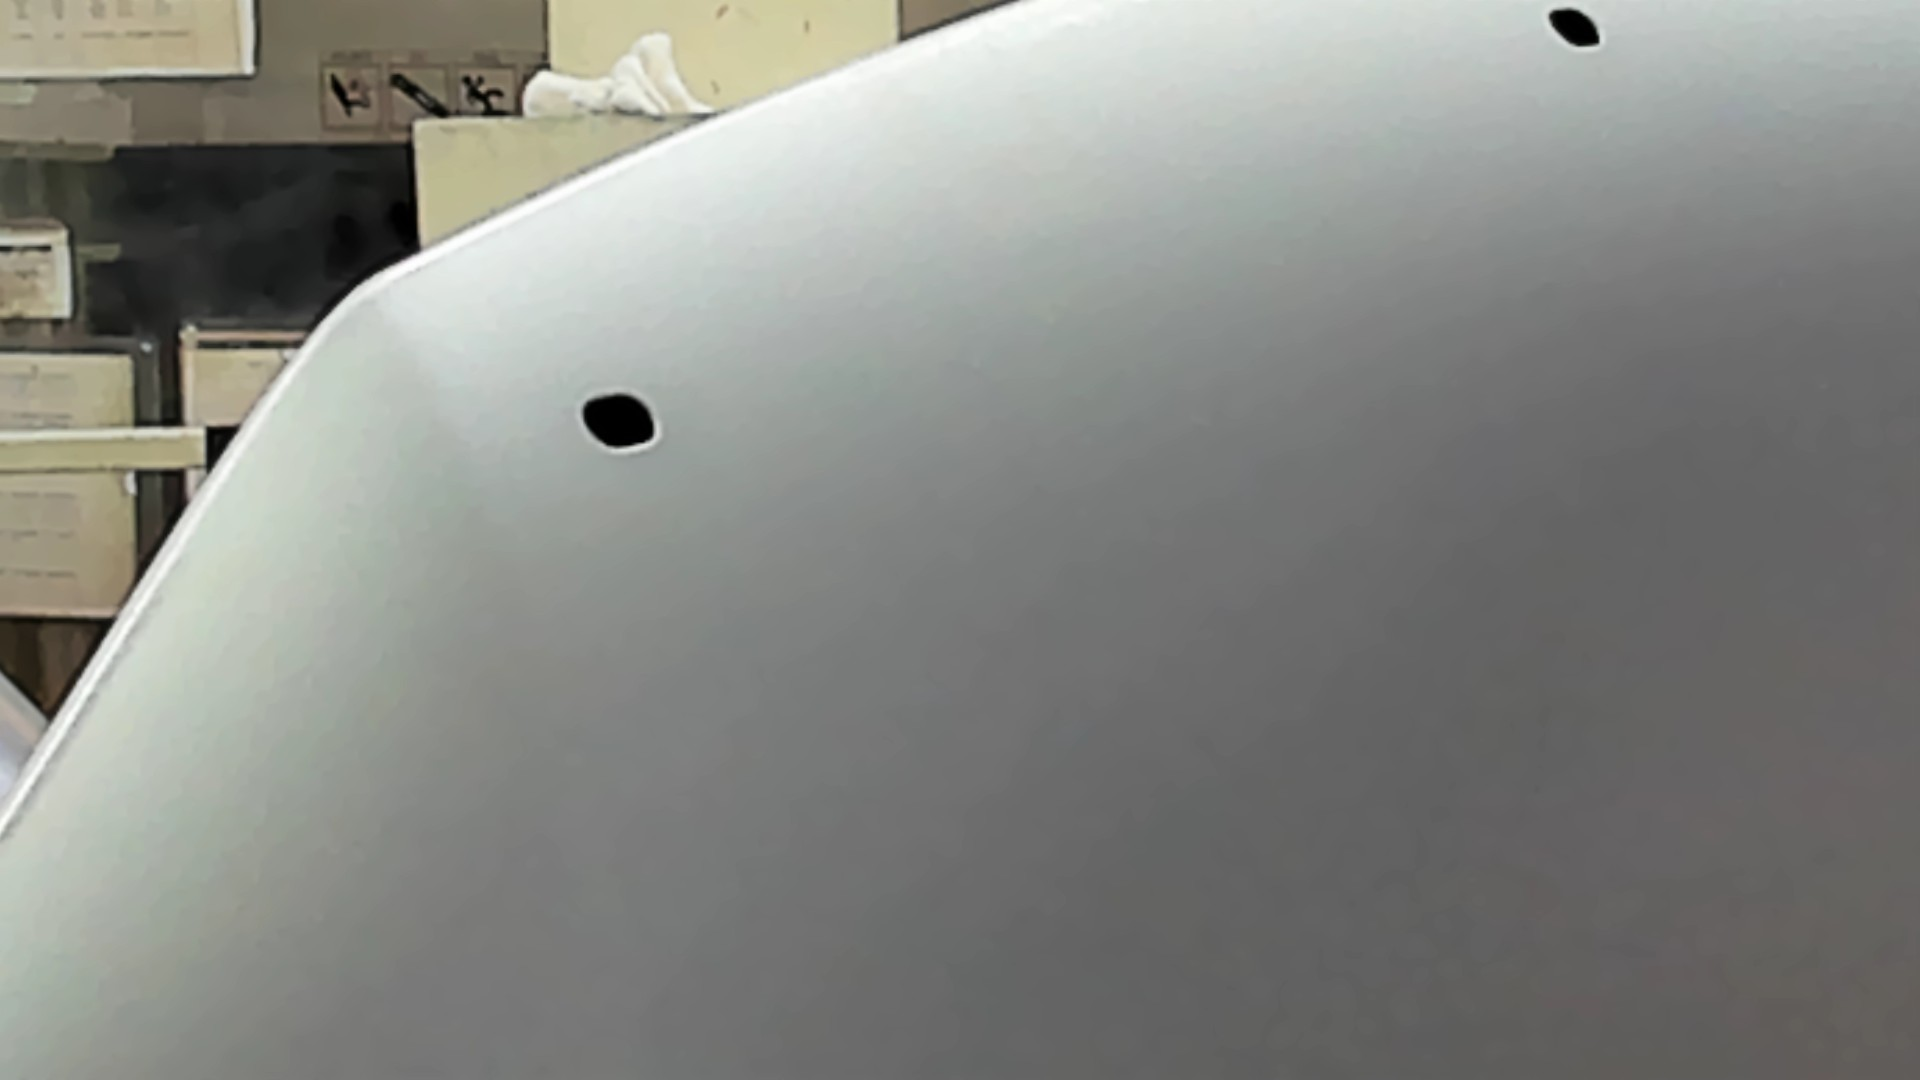amorfo: (575, 386, 665, 454), (1545, 5, 1605, 50)
